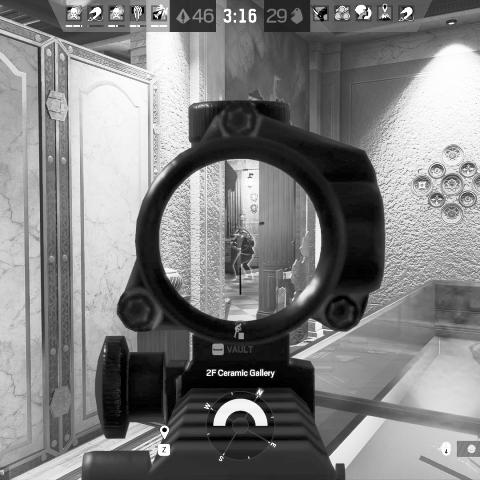Character: (231, 226, 255, 285)
Friend_label: (228, 214, 252, 228)
Head: (235, 228, 243, 236)
